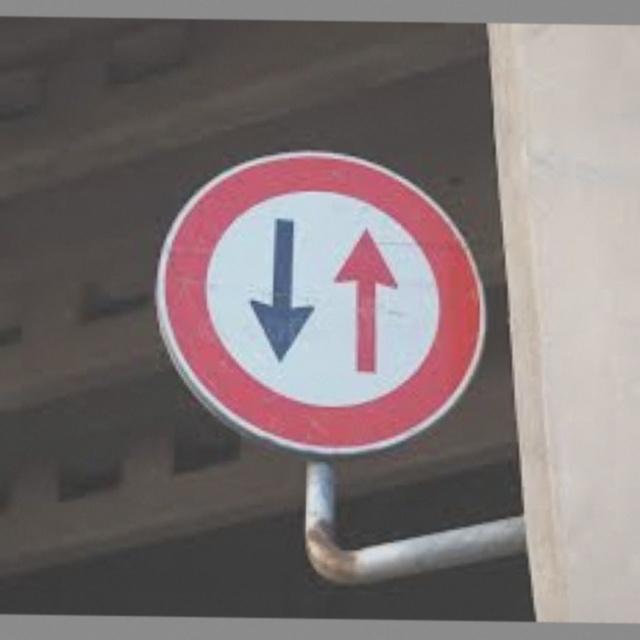Mandatory_Two_Way_Traffic: (156, 151, 505, 447)
